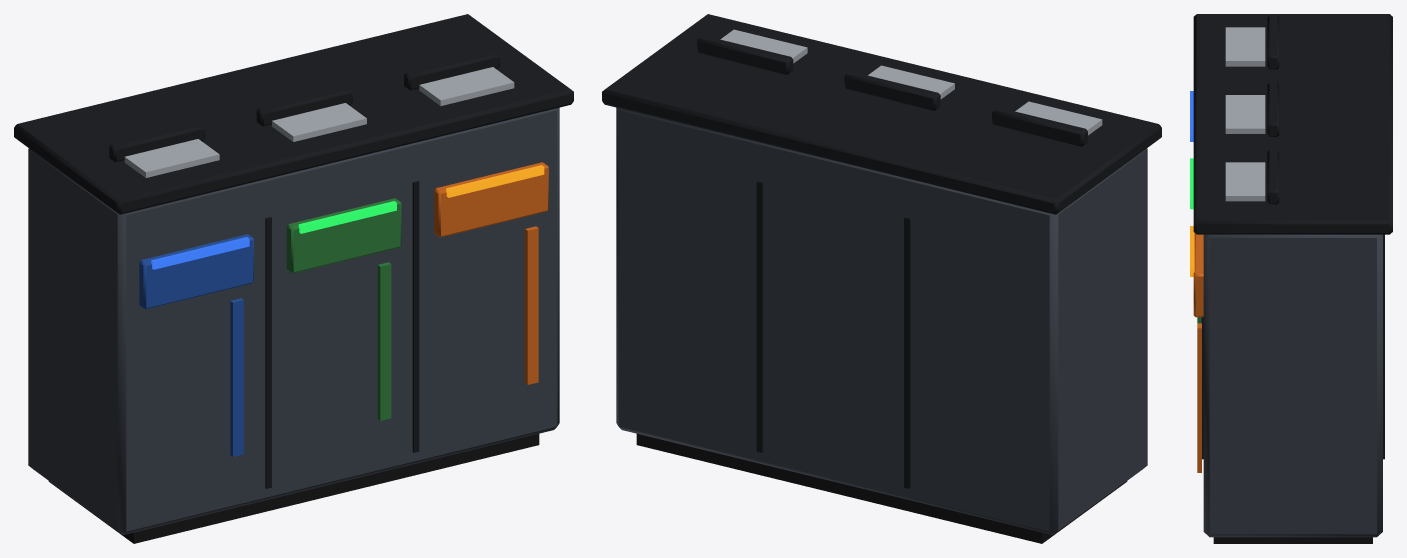
Rendered from bin_recycling_bin_triple.glb.
The picture shows the model from 3 angles, left to right: view 1: azimuth 30°, elevation 25°; view 2: azimuth 150°, elevation 25°; view 3: azimuth 270°, elevation 25°; orthographic projection. The views are drawn at different scales.
Parts seen in each view (by area): view 1: bin_recycling_bin_triple; view 2: bin_recycling_bin_triple; view 3: bin_recycling_bin_triple.
Part boxes in pixels (left/top/right/bottom): bin_recycling_bin_triple: left=14, top=14, right=573, bottom=543; bin_recycling_bin_triple: left=602, top=14, right=1161, bottom=543; bin_recycling_bin_triple: left=1190, top=14, right=1392, bottom=543.
Size of the model in its own units: 1.24 by 0.965 by 0.509.
